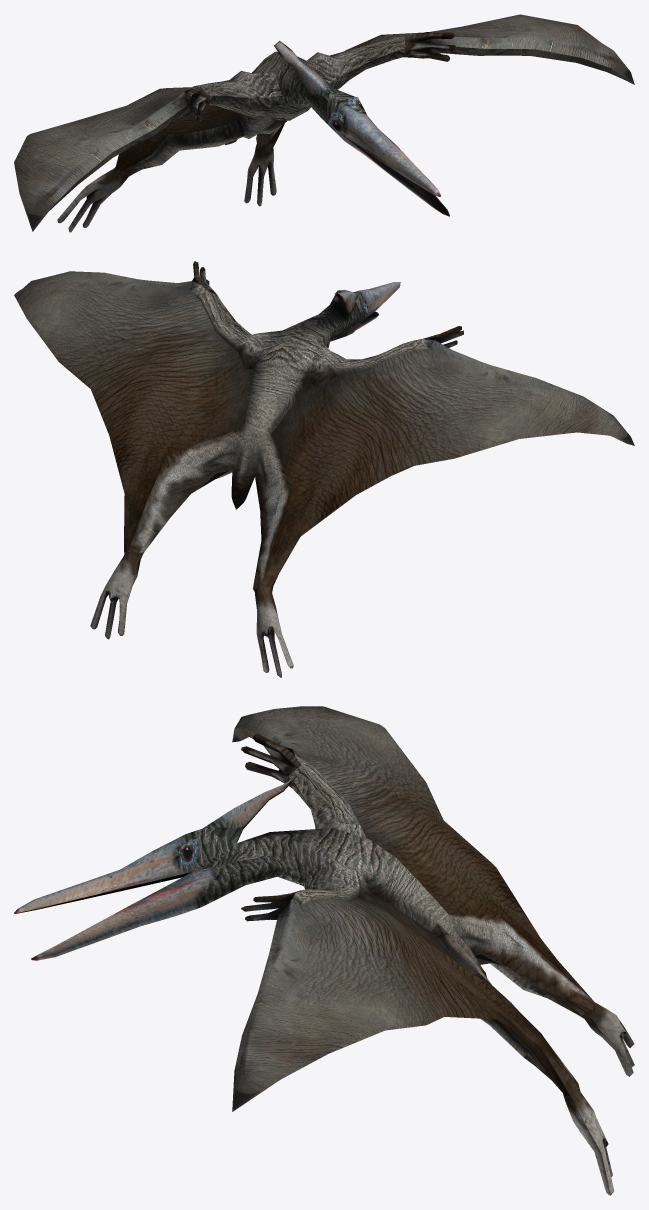
Rendered from Pterodactyl.obj.
3 renders of one model, top to bottom at view 1: azimuth 30°, elevation 25°; view 2: azimuth 150°, elevation 25°; view 3: azimuth 270°, elevation 25°, orthographic. The views are drawn at different scales.
Visible parts, largest first — view 1: Pterodactyl; view 2: Pterodactyl; view 3: Pterodactyl.
Boxes of the visible parts, x1,y1,x2,y2 form: Pterodactyl: (14, 14, 634, 232); Pterodactyl: (14, 261, 634, 677); Pterodactyl: (14, 706, 634, 1195).
Size of the model in its own units: 622 by 278 by 441.
1 material, 1 textured.
